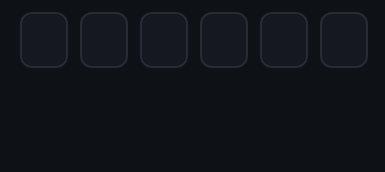
Test: OTPInput › handles paste of a complete OTP
Step 1. Click the 1st field → (44, 40), box [20, 12, 68, 68]
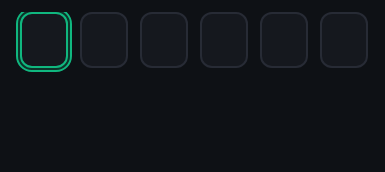
Step 2. Type keys "123456"
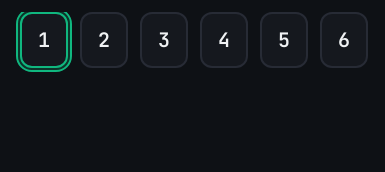
Expected: the 1st field holds "1", [20, 12, 68, 68]
Expected: the 2nd field holds "2", [80, 12, 128, 68]
Expected: the 3rd field holds "3", [140, 12, 188, 68]
